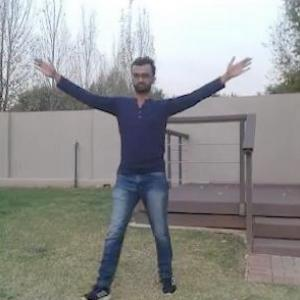takeoff: (59, 59, 265, 292)
